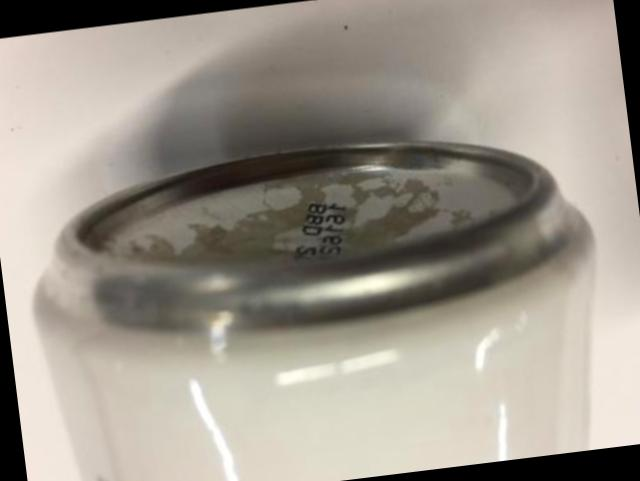metal: (32, 145, 591, 481)
